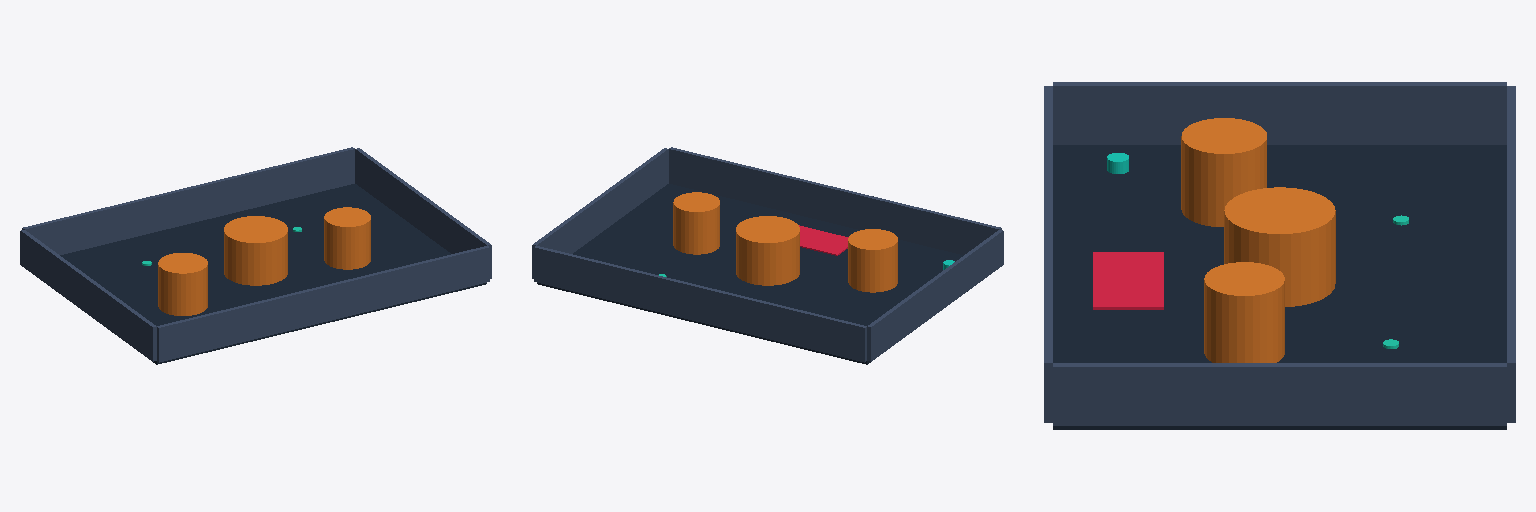
URDF robot description (veab_warehouse-transfer):
<?xml version='1.0' encoding='utf-8'?>
<robot name="veab_warehouse-transfer"><link name="world" /><link name="factory-floor"><visual><origin xyz="0 0 0" rpy="0 0 0" /><geometry><box size="13 9 0.15" /></geometry><material name="mat_factory-floor"><color rgba="0.16 0.21 0.27 1" /></material></visual><collision><origin xyz="0 0 0" rpy="0 0 0" /><geometry><box size="13 9 0.15" /></geometry></collision><inertial><origin xyz="0 0 0" rpy="0 0 0" /><mass value="1.0" /><inertia ixx="0.12" iyy="0.12" izz="0.12" ixy="0" ixz="0" iyz="0" /></inertial></link><joint name="anchor_factory-floor" type="fixed"><parent link="world" /><child link="factory-floor" /><origin xyz="6.5 4.5 -0.075" rpy="0 0 0" /></joint><link name="west-boundary"><visual><origin xyz="0 0 0" rpy="0 0 0" /><geometry><box size="0.16 9 1.3" /></geometry><material name="mat_west-boundary"><color rgba="0.3 0.36 0.46 0.68" /></material></visual><collision><origin xyz="0 0 0" rpy="0 0 0" /><geometry><box size="0.16 9 1.3" /></geometry></collision><inertial><origin xyz="0 0 0" rpy="0 0 0" /><mass value="1.0" /><inertia ixx="0.12" iyy="0.12" izz="0.12" ixy="0" ixz="0" iyz="0" /></inertial></link><joint name="anchor_west-boundary" type="fixed"><parent link="world" /><child link="west-boundary" /><origin xyz="-0.08 4.5 0.65" rpy="0 0 0" /></joint><link name="east-boundary"><visual><origin xyz="0 0 0" rpy="0 0 0" /><geometry><box size="0.16 9 1.3" /></geometry><material name="mat_east-boundary"><color rgba="0.3 0.36 0.46 0.68" /></material></visual><collision><origin xyz="0 0 0" rpy="0 0 0" /><geometry><box size="0.16 9 1.3" /></geometry></collision><inertial><origin xyz="0 0 0" rpy="0 0 0" /><mass value="1.0" /><inertia ixx="0.12" iyy="0.12" izz="0.12" ixy="0" ixz="0" iyz="0" /></inertial></link><joint name="anchor_east-boundary" type="fixed"><parent link="world" /><child link="east-boundary" /><origin xyz="13.08 4.5 0.65" rpy="0 0 0" /></joint><link name="south-boundary"><visual><origin xyz="0 0 0" rpy="0 0 0" /><geometry><box size="13 0.16 1.3" /></geometry><material name="mat_south-boundary"><color rgba="0.3 0.36 0.46 0.68" /></material></visual><collision><origin xyz="0 0 0" rpy="0 0 0" /><geometry><box size="13 0.16 1.3" /></geometry></collision><inertial><origin xyz="0 0 0" rpy="0 0 0" /><mass value="1.0" /><inertia ixx="0.12" iyy="0.12" izz="0.12" ixy="0" ixz="0" iyz="0" /></inertial></link><joint name="anchor_south-boundary" type="fixed"><parent link="world" /><child link="south-boundary" /><origin xyz="6.5 -0.08 0.65" rpy="0 0 0" /></joint><link name="north-boundary"><visual><origin xyz="0 0 0" rpy="0 0 0" /><geometry><box size="13 0.16 1.3" /></geometry><material name="mat_north-boundary"><color rgba="0.3 0.36 0.46 0.68" /></material></visual><collision><origin xyz="0 0 0" rpy="0 0 0" /><geometry><box size="13 0.16 1.3" /></geometry></collision><inertial><origin xyz="0 0 0" rpy="0 0 0" /><mass value="1.0" /><inertia ixx="0.12" iyy="0.12" izz="0.12" ixy="0" ixz="0" iyz="0" /></inertial></link><joint name="anchor_north-boundary" type="fixed"><parent link="world" /><child link="north-boundary" /><origin xyz="6.5 9.08 0.65" rpy="0 0 0" /></joint><link name="rack-a"><visual><origin xyz="0 0 0" rpy="0 0 0" /><geometry><cylinder radius="0.85" length="1.6" /></geometry><material name="mat_rack-a"><color rgba="0.9 0.52 0.2 1" /></material></visual><collision><origin xyz="0 0 0" rpy="0 0 0" /><geometry><cylinder radius="0.85" length="1.6" /></geometry></collision><inertial><origin xyz="0 0 0" rpy="0 0 0" /><mass value="1.0" /><inertia ixx="0.12" iyy="0.12" izz="0.12" ixy="0" ixz="0" iyz="0" /></inertial></link><joint name="anchor_rack-a" type="fixed"><parent link="world" /><child link="rack-a" /><origin xyz="3 3.4 0.8" rpy="0 0 0" /></joint><link name="rack-b"><visual><origin xyz="0 0 0" rpy="0 0 0" /><geometry><cylinder radius="1.1" length="1.6" /></geometry><material name="mat_rack-b"><color rgba="0.9 0.52 0.2 1" /></material></visual><collision><origin xyz="0 0 0" rpy="0 0 0" /><geometry><cylinder radius="1.1" length="1.6" /></geometry></collision><inertial><origin xyz="0 0 0" rpy="0 0 0" /><mass value="1.0" /><inertia ixx="0.12" iyy="0.12" izz="0.12" ixy="0" ixz="0" iyz="0" /></inertial></link><joint name="anchor_rack-b" type="fixed"><parent link="world" /><child link="rack-b" /><origin xyz="6.5 4.5 0.8" rpy="0 0 0" /></joint><link name="rack-c"><visual><origin xyz="0 0 0" rpy="0 0 0" /><geometry><cylinder radius="0.8" length="1.6" /></geometry><material name="mat_rack-c"><color rgba="0.9 0.52 0.2 1" /></material></visual><collision><origin xyz="0 0 0" rpy="0 0 0" /><geometry><cylinder radius="0.8" length="1.6" /></geometry></collision><inertial><origin xyz="0 0 0" rpy="0 0 0" /><mass value="1.0" /><inertia ixx="0.12" iyy="0.12" izz="0.12" ixy="0" ixz="0" iyz="0" /></inertial></link><joint name="anchor_rack-c" type="fixed"><parent link="world" /><child link="rack-c" /><origin xyz="9.7 3.8 0.8" rpy="0 0 0" /></joint><link name="no-entry-workcell"><visual><origin xyz="0 0 0" rpy="0 0 0" /><geometry><box size="2.6 1.4 0.05" /></geometry><material name="mat_no-entry-workcell"><color rgba="0.9 0.18 0.32 0.25" /></material></visual><inertial><origin xyz="0 0 0" rpy="0 0 0" /><mass value="1.0" /><inertia ixx="0.12" iyy="0.12" izz="0.12" ixy="0" ixz="0" iyz="0" /></inertial></link><joint name="anchor_no-entry-workcell" type="fixed"><parent link="world" /><child link="no-entry-workcell" /><origin xyz="6.4 1.5 0.025" rpy="0 0 0" /></joint><link name="checkpoint-1-scan-station"><visual><origin xyz="0 0 0" rpy="0 0 0" /><geometry><cylinder radius="0.16" length="0.07" /></geometry><material name="mat_checkpoint-1-scan-station"><color rgba="0.16 0.83 0.71 0.8" /></material></visual><inertial><origin xyz="0 0 0" rpy="0 0 0" /><mass value="1.0" /><inertia ixx="0.12" iyy="0.12" izz="0.12" ixy="0" ixz="0" iyz="0" /></inertial></link><joint name="anchor_checkpoint-1-scan-station" type="fixed"><parent link="world" /><child link="checkpoint-1-scan-station" /><origin xyz="3.6 6.9 0.035" rpy="0 0 0" /></joint><link name="checkpoint-2-quality-gate"><visual><origin xyz="0 0 0" rpy="0 0 0" /><geometry><cylinder radius="0.16" length="0.07" /></geometry><material name="mat_checkpoint-2-quality-gate"><color rgba="0.16 0.83 0.71 0.8" /></material></visual><inertial><origin xyz="0 0 0" rpy="0 0 0" /><mass value="1.0" /><inertia ixx="0.12" iyy="0.12" izz="0.12" ixy="0" ixz="0" iyz="0" /></inertial></link><joint name="anchor_checkpoint-2-quality-gate" type="fixed"><parent link="world" /><child link="checkpoint-2-quality-gate" /><origin xyz="9.4 6.7 0.035" rpy="0 0 0" /></joint><link name="checkpoint-3-dispatch-bay"><visual><origin xyz="0 0 0" rpy="0 0 0" /><geometry><cylinder radius="0.16" length="0.07" /></geometry><material name="mat_checkpoint-3-dispatch-bay"><color rgba="0.16 0.83 0.71 0.8" /></material></visual><inertial><origin xyz="0 0 0" rpy="0 0 0" /><mass value="1.0" /><inertia ixx="0.12" iyy="0.12" izz="0.12" ixy="0" ixz="0" iyz="0" /></inertial></link><joint name="anchor_checkpoint-3-dispatch-bay" type="fixed"><parent link="world" /><child link="checkpoint-3-dispatch-bay" /><origin xyz="11.4 2 0.035" rpy="0 0 0" /></joint><link name="robot"><visual><origin xyz="0 0 0" rpy="0 0 0" /><geometry><cylinder radius="0.22" length="0.27" /></geometry><material name="mat_robot"><color rgba="0.12 0.83 0.76 1" /></material></visual><collision><origin xyz="0 0 0" rpy="0 0 0" /><geometry><cylinder radius="0.22" length="0.27" /></geometry></collision><inertial><origin xyz="0 0 0" rpy="0 0 0" /><mass value="8.0" /><inertia ixx="0.12" iyy="0.12" izz="0.12" ixy="0" ixz="0" iyz="0" /></inertial></link><joint name="anchor_robot" type="fixed"><parent link="world" /><child link="robot" /><origin xyz="1.2 1.3 0.16" rpy="0 0 0" /></joint></robot>

--- Facts derived from the render (not from the file) ---
The picture shows the robot from 3 angles, left to right: view 1: azimuth 30°, elevation 25°; view 2: azimuth 150°, elevation 25°; view 3: azimuth 270°, elevation 25°; orthographic projection.
Model veab_warehouse-transfer with 14 links and 13 joints (13 fixed), rooted at world, posed every joint at zero.
Visible links, largest first — view 1: factory-floor, south-boundary, north-boundary, west-boundary, east-boundary, rack-b, rack-a, rack-c; view 2: factory-floor, north-boundary, south-boundary, west-boundary, east-boundary, rack-b, rack-a, rack-c, no-entry-workcell; view 3: factory-floor, east-boundary, west-boundary, rack-b, rack-c, rack-a, no-entry-workcell, south-boundary, north-boundary.
Boxes of the visible links, x1,y1,x2,y2 form: factory-floor: (56, 184, 486, 364); south-boundary: (157, 246, 489, 362); north-boundary: (22, 147, 354, 254); west-boundary: (20, 230, 156, 361); east-boundary: (355, 148, 491, 278); rack-b: (224, 216, 287, 285); rack-a: (158, 253, 207, 315); rack-c: (324, 207, 370, 269); factory-floor: (537, 184, 967, 364); north-boundary: (534, 246, 866, 362); south-boundary: (669, 147, 1001, 254); west-boundary: (867, 230, 1003, 361); east-boundary: (532, 148, 668, 278); rack-b: (736, 216, 799, 285); rack-a: (848, 229, 897, 292); rack-c: (673, 192, 719, 254); no-entry-workcell: (799, 225, 848, 255); factory-floor: (1053, 145, 1506, 429); east-boundary: (1053, 363, 1506, 425); west-boundary: (1053, 82, 1506, 144); rack-b: (1224, 187, 1335, 306); rack-c: (1204, 262, 1284, 362); rack-a: (1181, 118, 1266, 226); no-entry-workcell: (1093, 252, 1163, 309); south-boundary: (1044, 86, 1052, 422); north-boundary: (1507, 86, 1515, 422).
Size in the robot's own frame: 13.32 by 9.32 by 1.75 metres.
Geometry: primitives only (box / cylinder / sphere), no mesh files.
